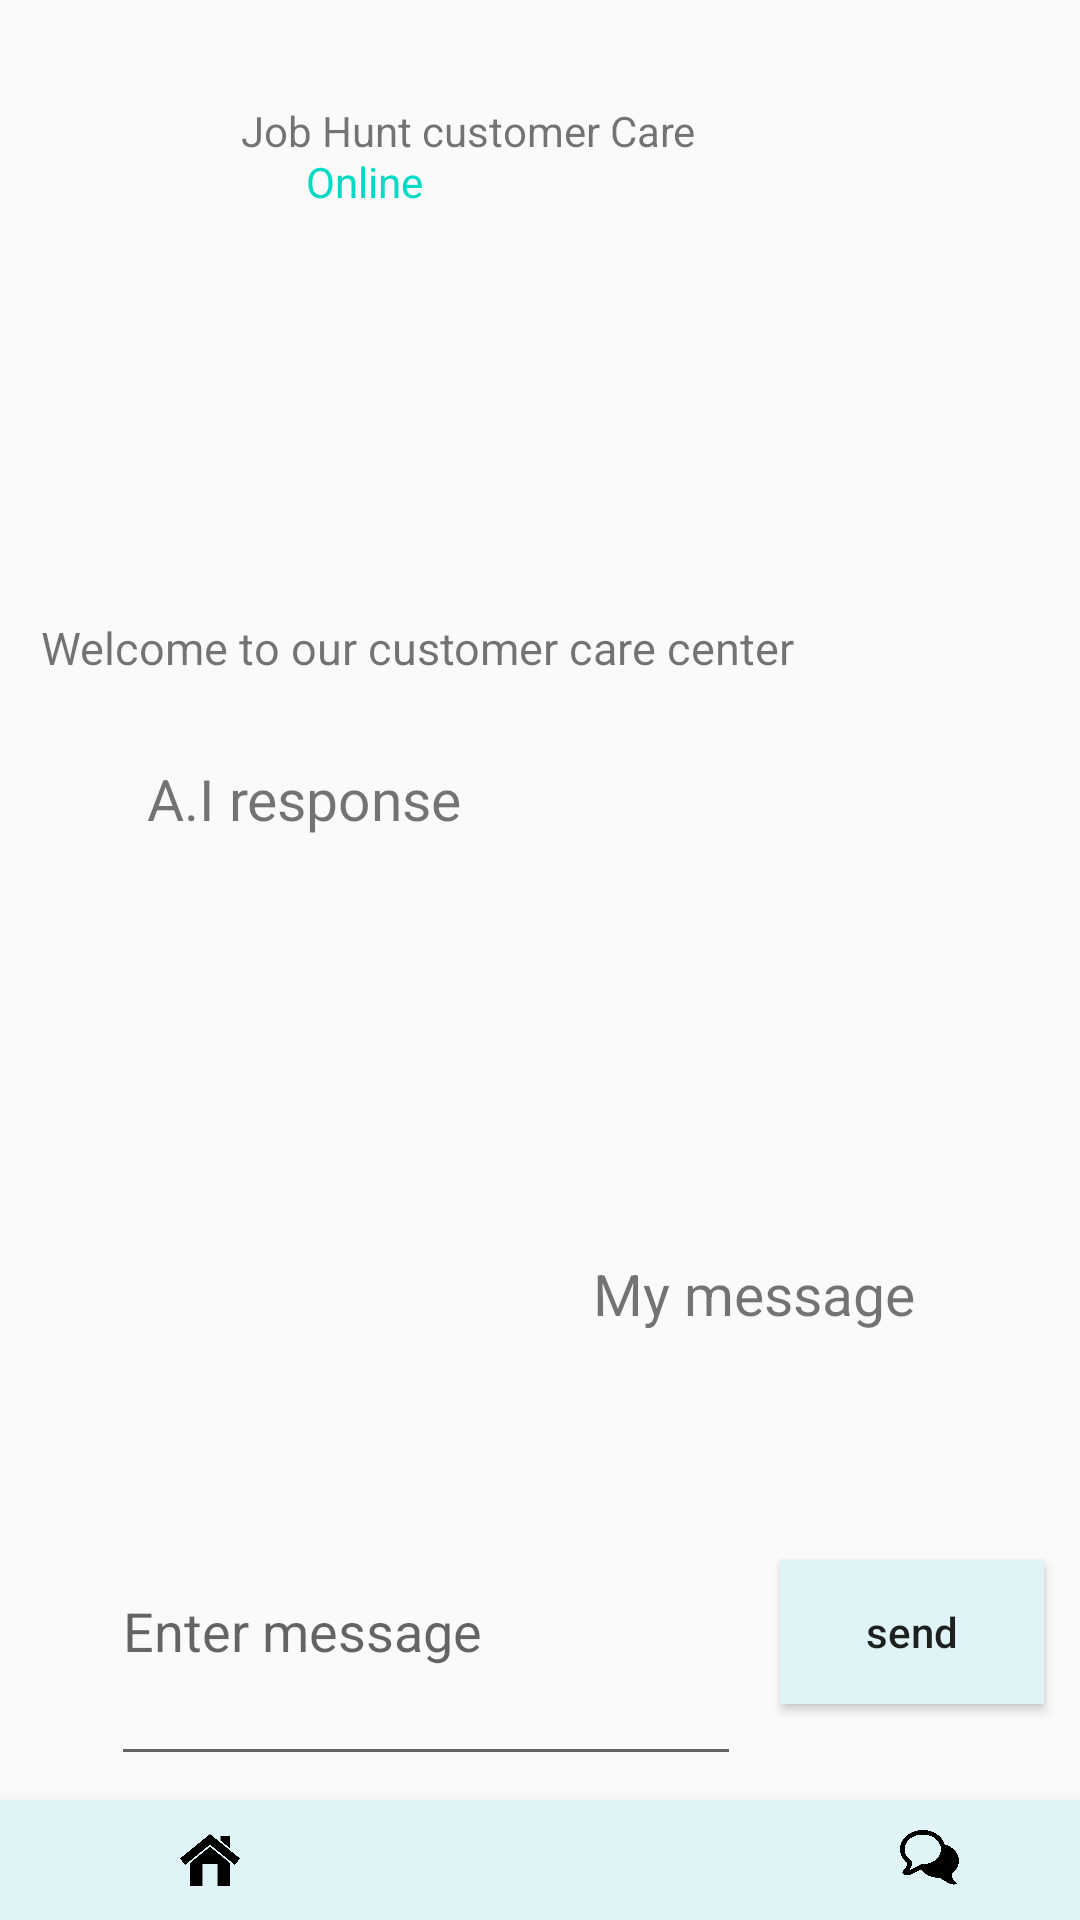

Named icons in this screenshot (1080w x 1920h) and their centers, point (x, y):
chat: point (929, 1857)
home: point (210, 1860)
